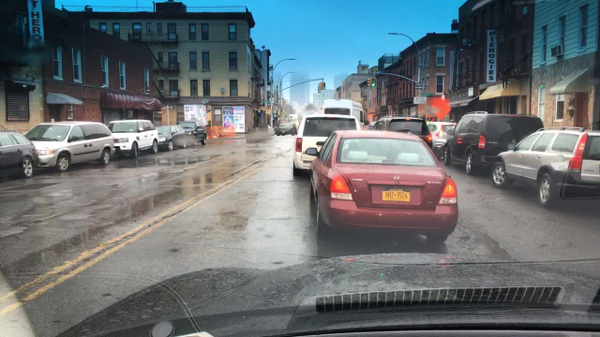car: (305, 129, 459, 246), (491, 127, 599, 208), (443, 110, 543, 178), (25, 120, 117, 173), (292, 113, 363, 176), (105, 119, 160, 157), (371, 115, 434, 148), (1, 132, 40, 181), (322, 98, 366, 129), (155, 123, 189, 151), (426, 119, 455, 151), (176, 120, 209, 147), (275, 123, 298, 138), (366, 121, 375, 130)
traffic light: (366, 77, 371, 87), (371, 77, 375, 87), (322, 82, 326, 90), (319, 82, 323, 89)
traffic sign: (412, 96, 426, 104), (422, 93, 433, 97), (162, 106, 174, 109), (415, 86, 426, 89), (262, 100, 270, 103)
